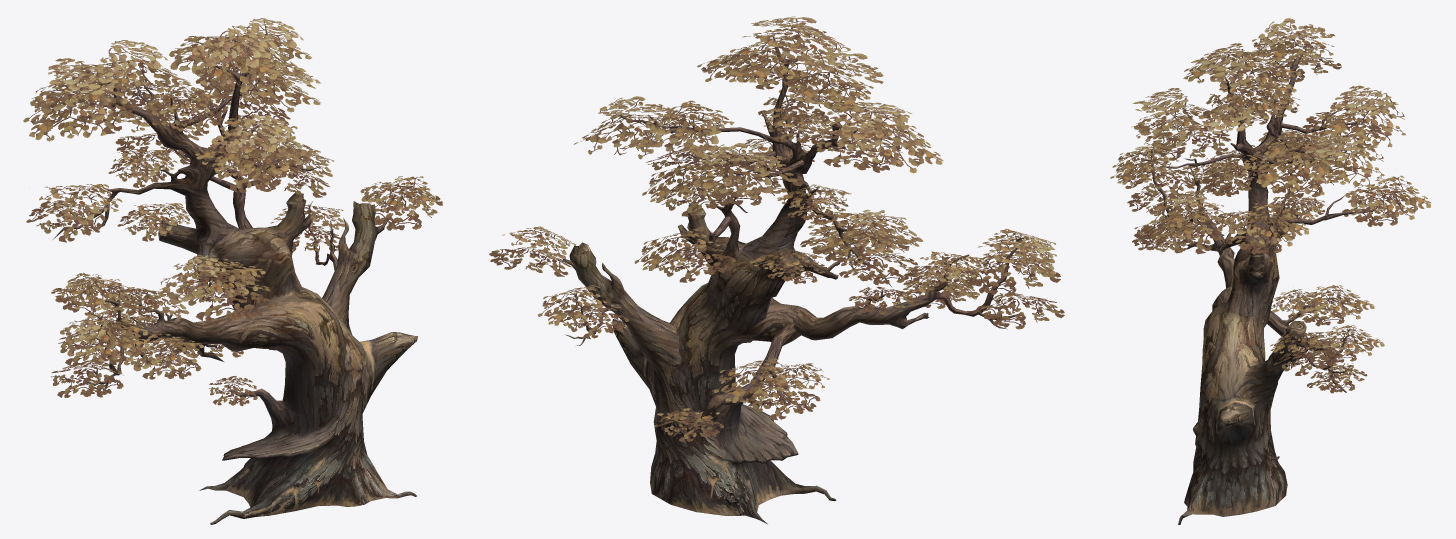
The model's file is Tree_3.FBX.
The picture shows the model from 3 angles, left to right: view 1: azimuth 30°, elevation 25°; view 2: azimuth 150°, elevation 25°; view 3: azimuth 270°, elevation 25°; orthographic projection. The views are drawn at different scales.
Parts seen in each view (by area): view 1: Tree_3; view 2: Tree_3; view 3: Tree_3.
Part boxes in pixels (x1,y1,x2,y2): Tree_3: [23, 18, 442, 524]; Tree_3: [489, 16, 1064, 524]; Tree_3: [1110, 18, 1431, 524].
Bounding box in the file's own units: 688 × 648 × 479.
